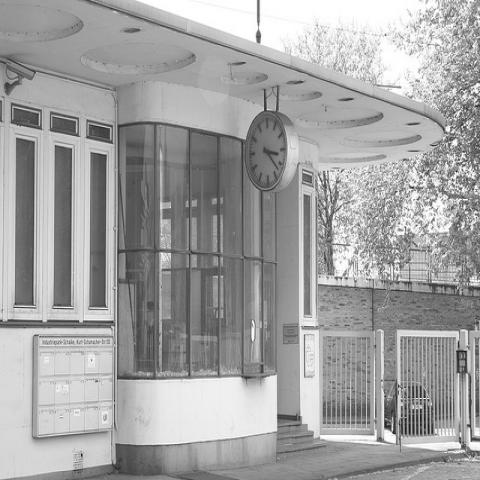car: (384, 381, 434, 433)
